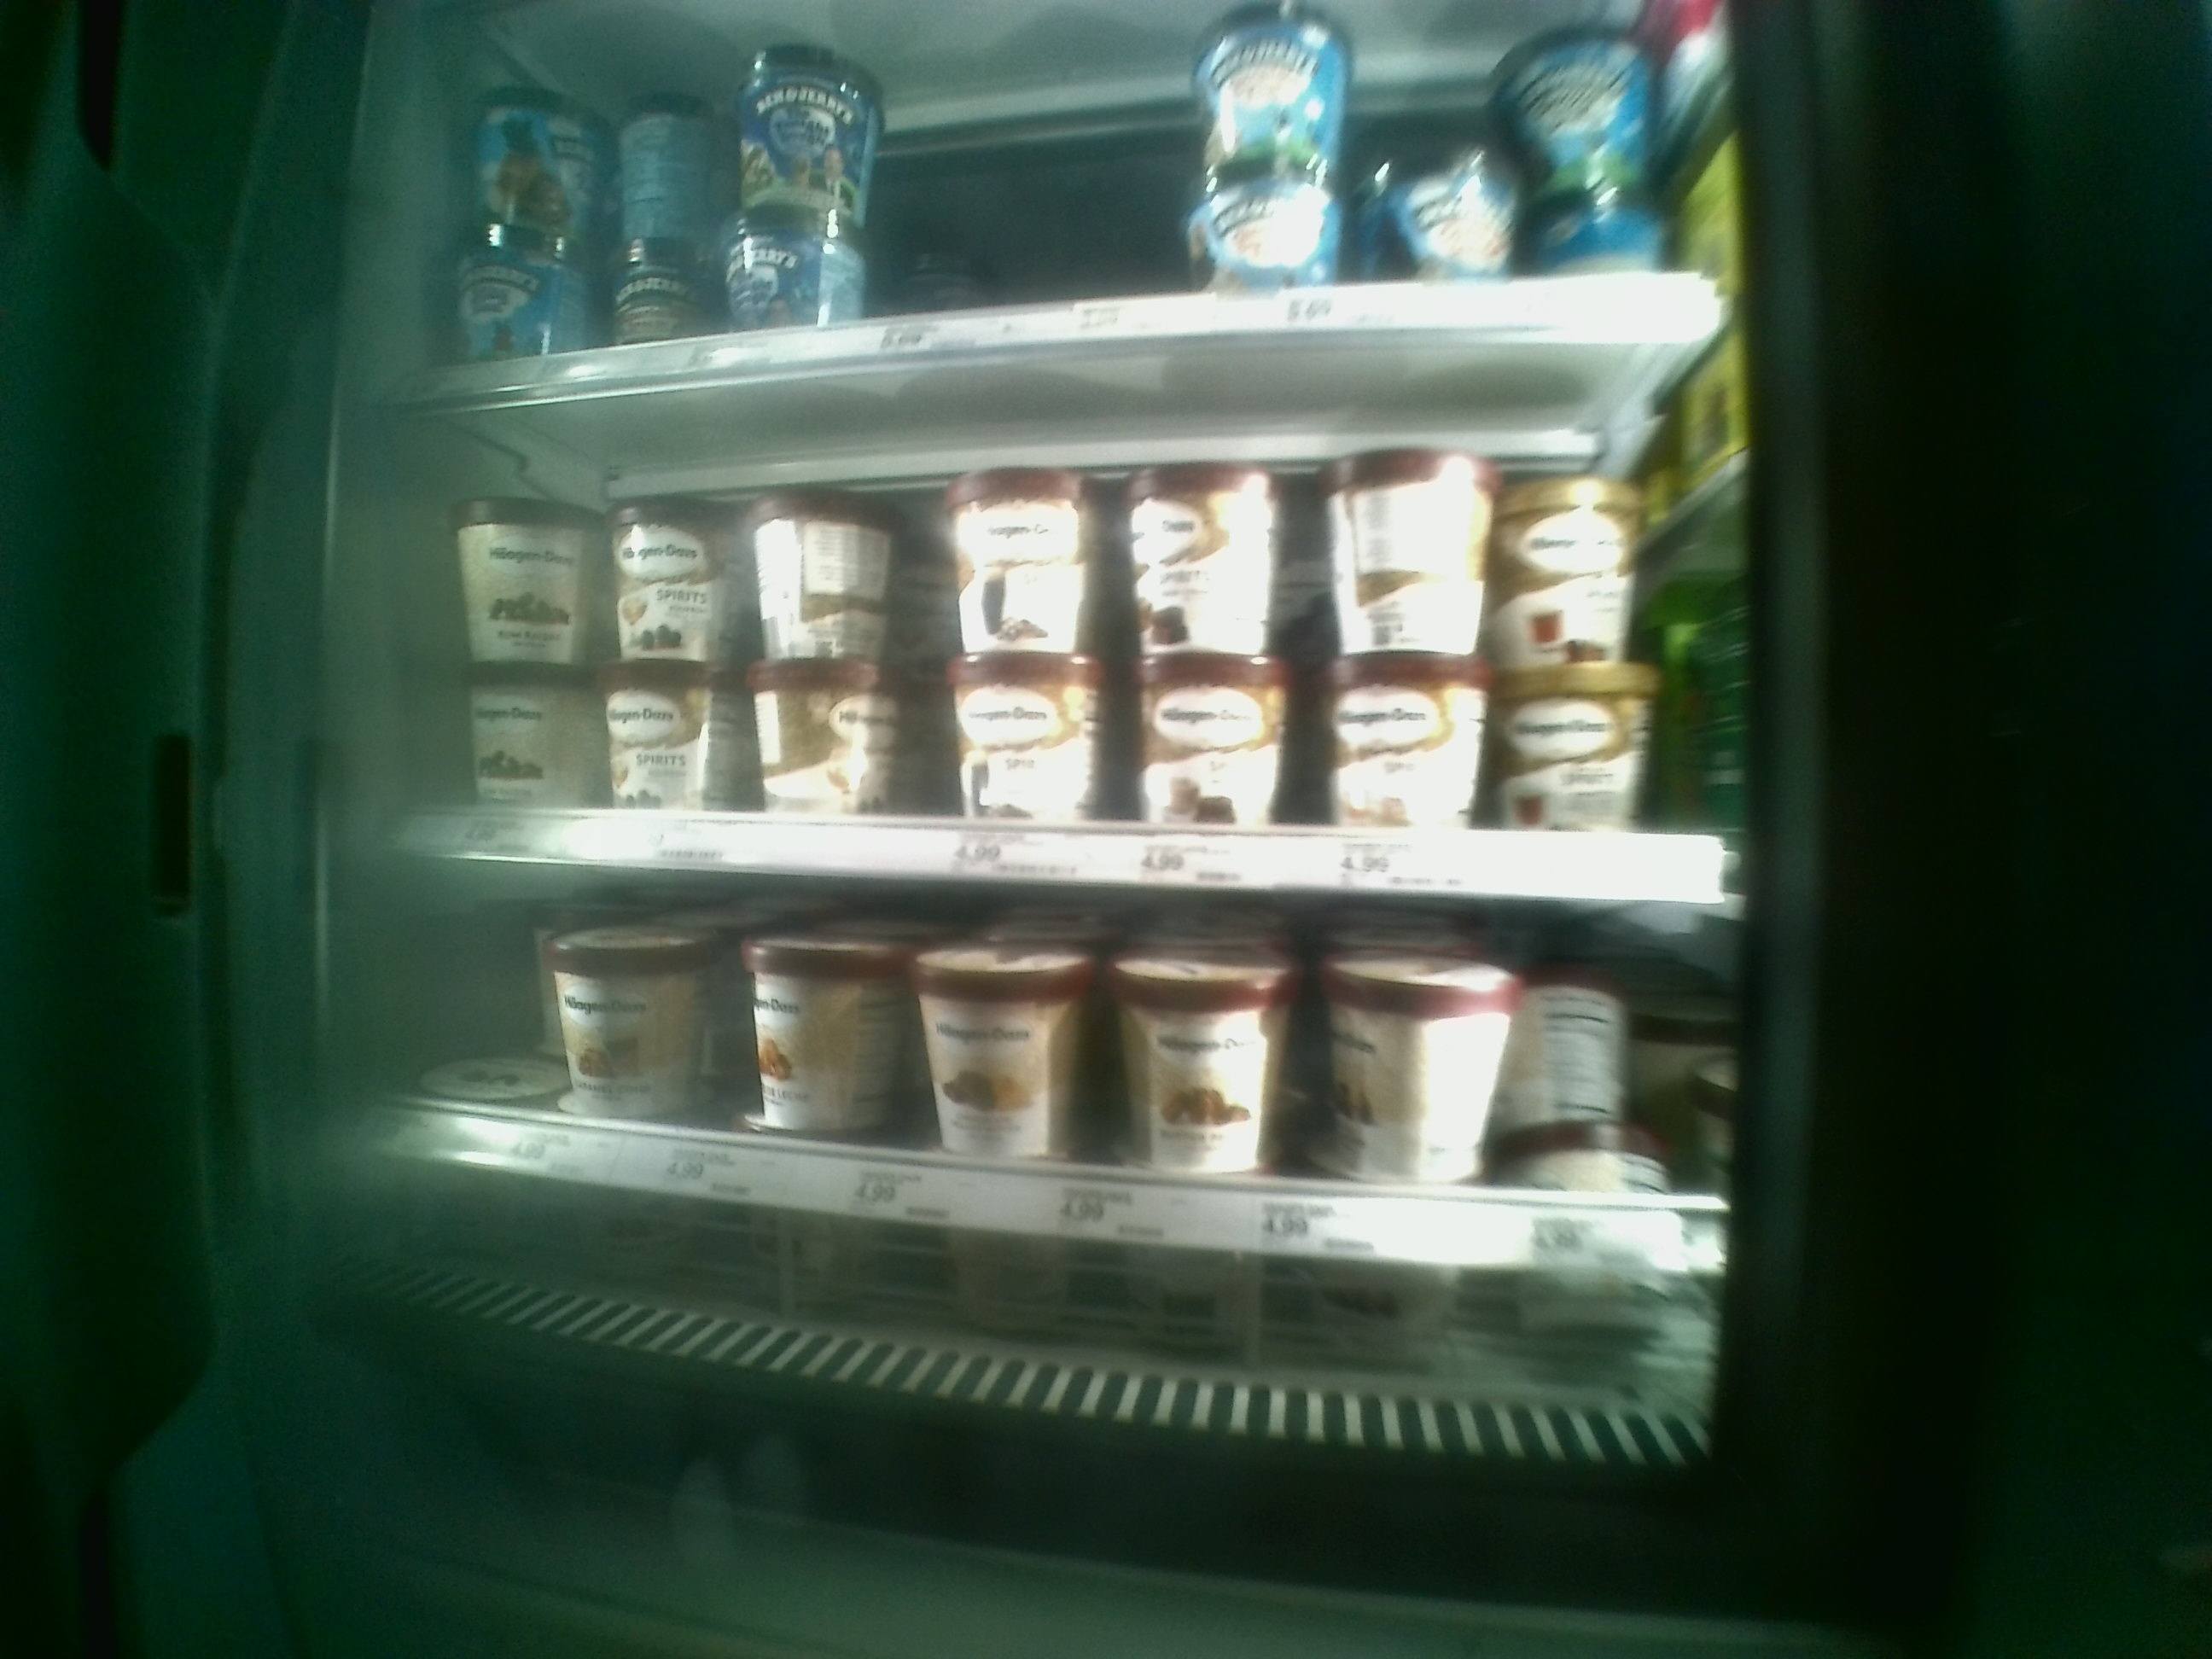shelf: (383, 336, 1766, 904), (404, 864, 1743, 1394)
